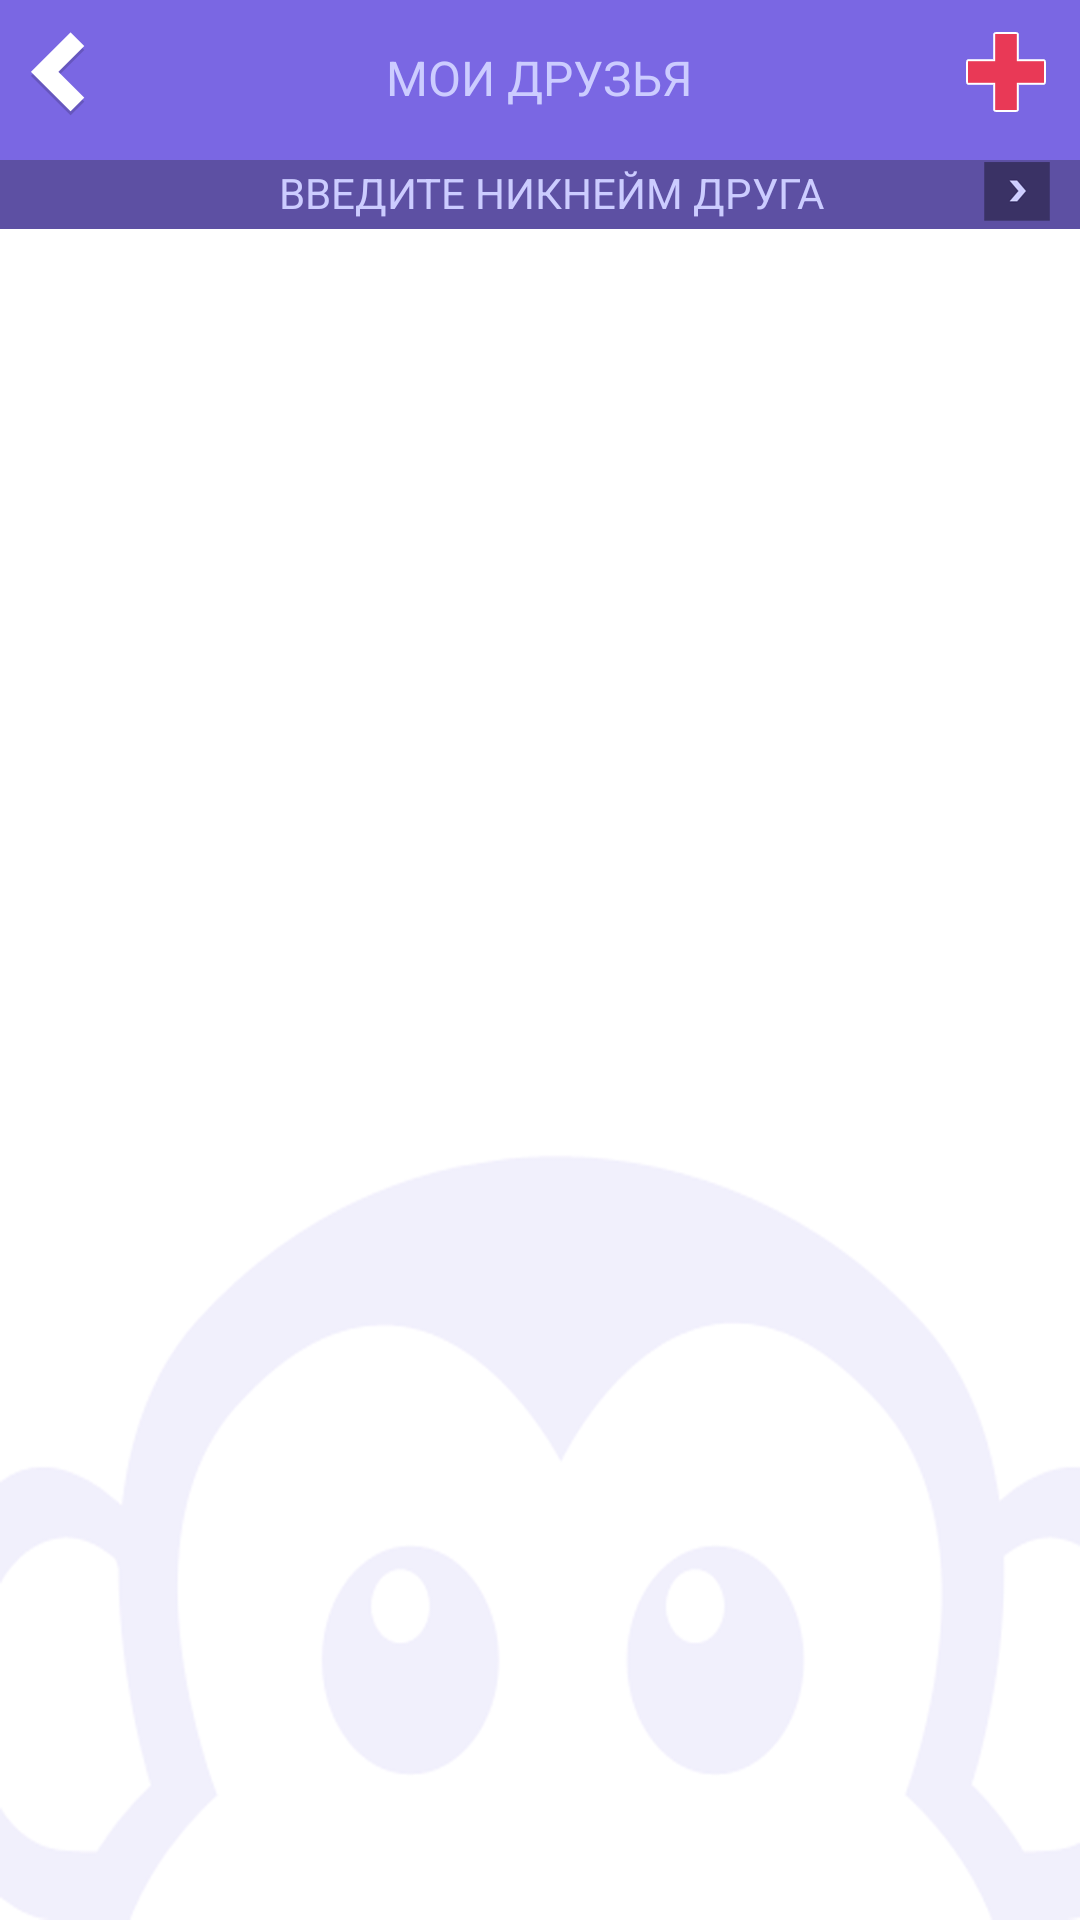

Where icons sit on this 1080px x 1920px app screen, as {"x1": x1, "y1": y1, "x2": x2, "y2": y2}:
btnback: {"x1": 31, "y1": 32, "x2": 84, "y2": 115}
myfriends btninvite friends: {"x1": 966, "y1": 32, "x2": 1046, "y2": 112}
myfriends form btnconfirm search: {"x1": 984, "y1": 162, "x2": 1050, "y2": 221}
